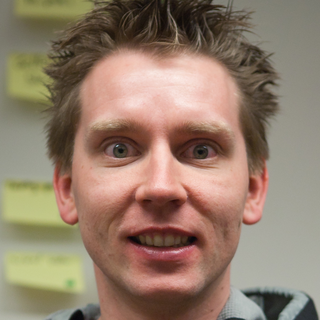eye: (96, 136, 143, 164), (178, 139, 224, 165)
